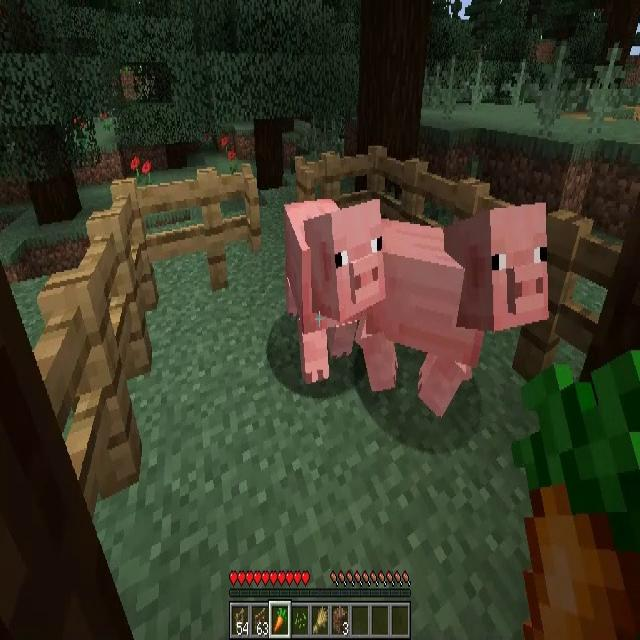pig: (384, 201, 550, 414), (283, 197, 385, 380)
